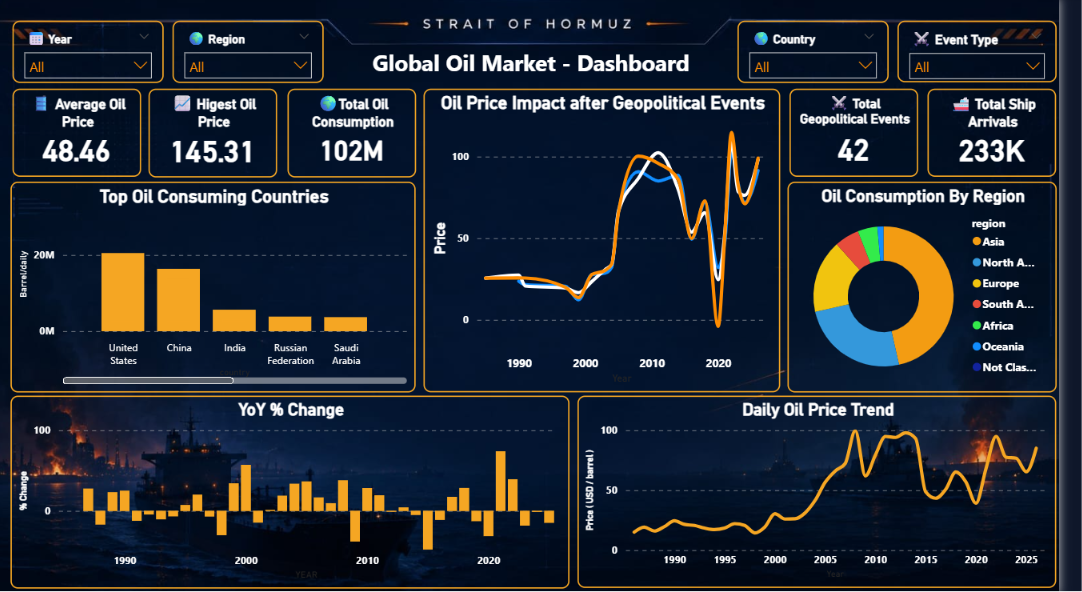

The dashboard page shown, as its layout file describes it:
{"tool":"powerbi","page":{"name":"Page 1","canvas":[1280,720],"ordinal":0},"visuals":[{"type":"card","title":"🛢️ Average Oil Price","fields":{"Values":["Avg(Daily_oil-price.Price)"]},"box":[17.5,110,155,106.3],"z":0},{"type":"lineChart","title":"Daily Oil Price Trend","fields":{"Category":["Daily_oil-price.Date.Variation.Date Hierarchy.Year","Daily_oil-price.Date.Variation.Date Hierarchy.Quarter","Daily_oil-price.Date.Variation.Date Hierarchy.Month","Daily_oil-price.Date.Variation.Date Hierarchy.Day"],"Y":["Avg(Daily_oil-price.Price)"]},"box":[702.1,480.2,577.9,231.6],"z":1000},{"type":"card","title":"📈 Higest Oil Price","fields":{"Values":["Daily_oil-price.Higest Oil Price"]},"box":[181.7,110,155,107],"z":2000},{"type":"card","title":"🌍Total Oil Consumption","fields":{"Values":["Sum(oil_consumption.barrels_daily)"]},"box":[349.7,110,155,107],"z":3000},{"type":"card","title":"⚔️ Total Geopolitical Events","fields":{"Values":["Count(event_price_impact.event_name)"]},"box":[955.2,110,155,106.3],"z":4000},{"type":"card","title":"🚢 Total Ship Arrivals","fields":{"Values":["arrivals-of-ships.Total Ship Arrivals"]},"box":[1121.5,110,155,106.3],"z":5000},{"type":"lineClusteredColumnComboChart","title":"Top Oil Consuming Countries","fields":{"Category":["oil_consumption.country"],"Y":["Sum(oil_consumption.barrels_daily)"]},"box":[15.7,222,488.6,254.6],"z":6000},{"type":"lineStackedColumnComboChart","title":"YoY % Change ","fields":{"Category":["Annual_%_Change.YEAR"],"Y":["Sum(Annual_%_Change.PCT_CHANGE_YOY)"]},"box":[15.7,480.2,674.4,232.8],"z":7000},{"type":"donutChart","title":"Oil Consumption By Region","fields":{"Y":["Sum(oil_consumption.barrels_daily)"],"Category":["oil_consumption.region"]},"box":[953.1,222,324.5,254.6],"z":8000},{"type":"lineChart","title":"Oil Price Impact after Geopolitical Events","fields":{"Category":["event_price_impact.event_date.Variation.Date Hierarchy.Year"],"Y":["Avg(event_price_impact.price_on_event)","Avg(event_price_impact.price_30d_after)","Avg(event_price_impact.price_7d_after)"]},"box":[513.9,110,430.1,366.3],"z":9000},{"type":"slicer","title":"📅 Year","fields":{"Values":["Sheet1.year"]},"box":[17.5,27.5,182.5,75],"z":9001},{"type":"slicer","title":"📅 Year","fields":{"Values":["oil_consumption.region"]},"box":[211.3,27.5,182.5,75],"z":9002},{"type":"slicer","title":"📅 Year","fields":{"Values":["oil_consumption.country"]},"box":[892.7,27.5,182.5,75],"z":9003},{"type":"slicer","title":"📅 Year","fields":{"Values":["event_price_impact.event_type"]},"box":[1085.8,27.7,191.8,74.8],"z":9004},{"type":"textbox","box":[403.8,55,478.8,73.8],"z":9005}]}

Visuals, with their boxes in screenshot pixels (x1, y1, x2, y2), scaled from the page's 1280x720 canvas onto the 1082x592 screenshot:
"🛢️ Average Oil Price" card: 15 90 146 178
"Daily Oil Price Trend" lineChart: 593 395 1081 585
"📈 Higest Oil Price" card: 154 90 285 178
"🌍Total Oil Consumption" card: 296 90 427 178
"⚔️ Total Geopolitical Events" card: 807 90 938 178
"🚢 Total Ship Arrivals" card: 948 90 1079 178
"Top Oil Consuming Countries" lineClusteredColumnComboChart: 13 183 426 392
"YoY % Change " lineStackedColumnComboChart: 13 395 583 586
"Oil Consumption By Region" donutChart: 806 183 1080 392
"Oil Price Impact after Geopolitical Events" lineChart: 434 90 798 392
"📅 Year" slicer: 15 23 169 84
"📅 Year" slicer: 179 23 333 84
"📅 Year" slicer: 755 23 909 84
"📅 Year" slicer: 918 23 1080 84
textbox: 341 45 746 106
